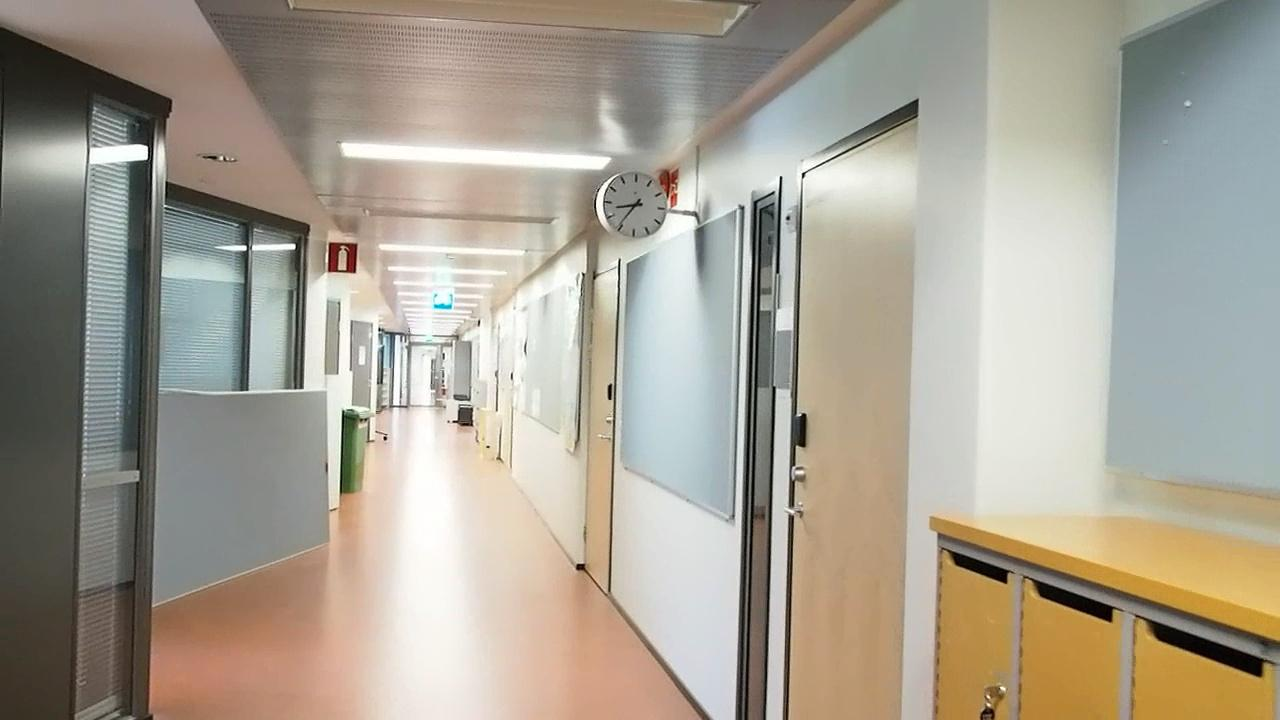clock: (590, 165, 677, 244)
trashbin: (334, 402, 368, 499)
